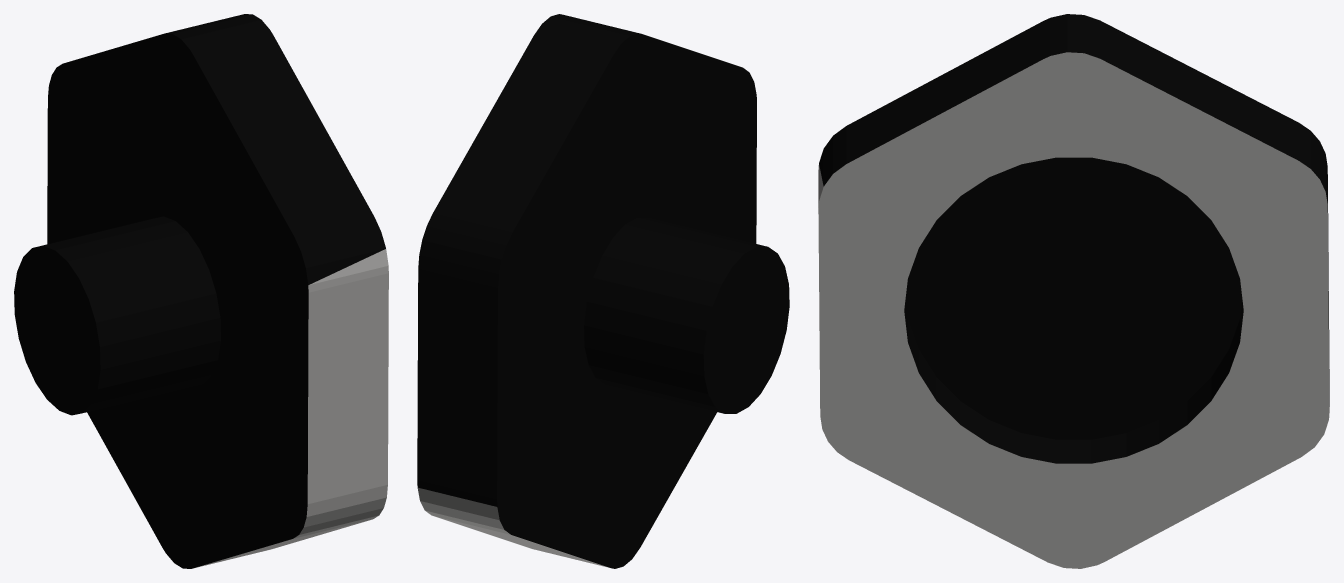
Rendered from left_arm_link6.usd.sapien.glb.
3 renders of one model, left to right at view 1: azimuth 30°, elevation 25°; view 2: azimuth 150°, elevation 25°; view 3: azimuth 270°, elevation 25°, orthographic. The views are drawn at different scales.
Visible parts, largest first — view 1: left_arm_link6; view 2: left_arm_link6; view 3: left_arm_link6.
Part boxes in pixels (x1=…): left_arm_link6: x1=14, y1=14, x2=388, y2=568; left_arm_link6: x1=417, y1=14, x2=789, y2=568; left_arm_link6: x1=818, y1=14, x2=1329, y2=568.
Size of the model in its own units: 0.02 by 0.0504 by 0.0452.
1 material, 1 textured.
